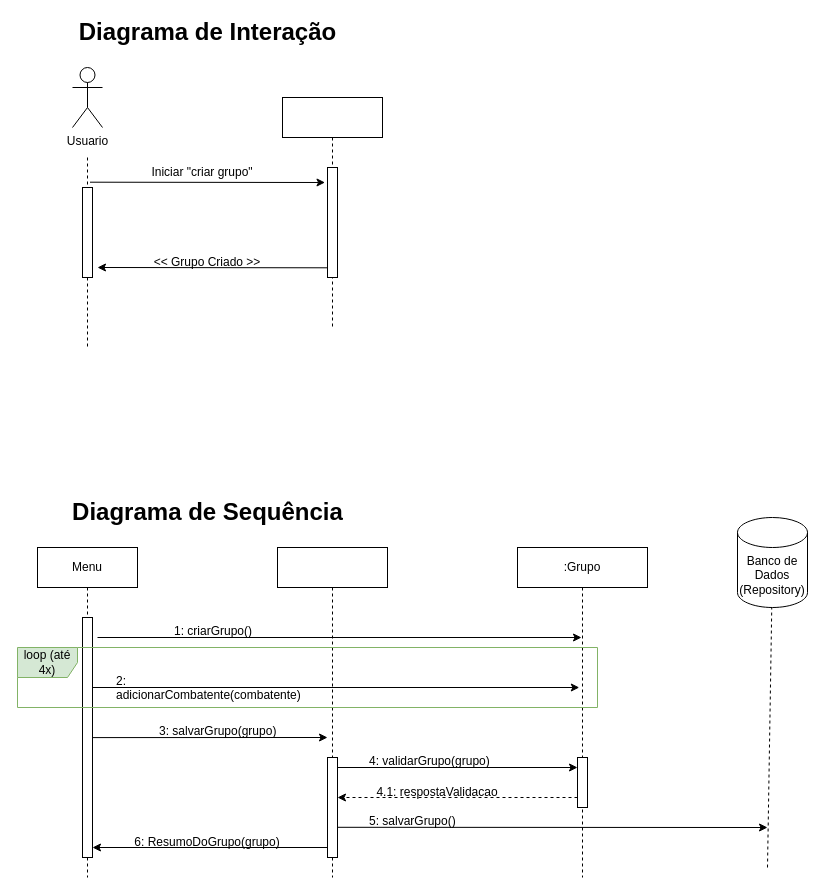
The diagram is 825 pixels wide and 895 high, and some of its shapes have lost their labels. Each missing label, with the box of its shape:
:GrupoController: (276, 546, 388, 878)
Sistema: (282, 96, 382, 328)
